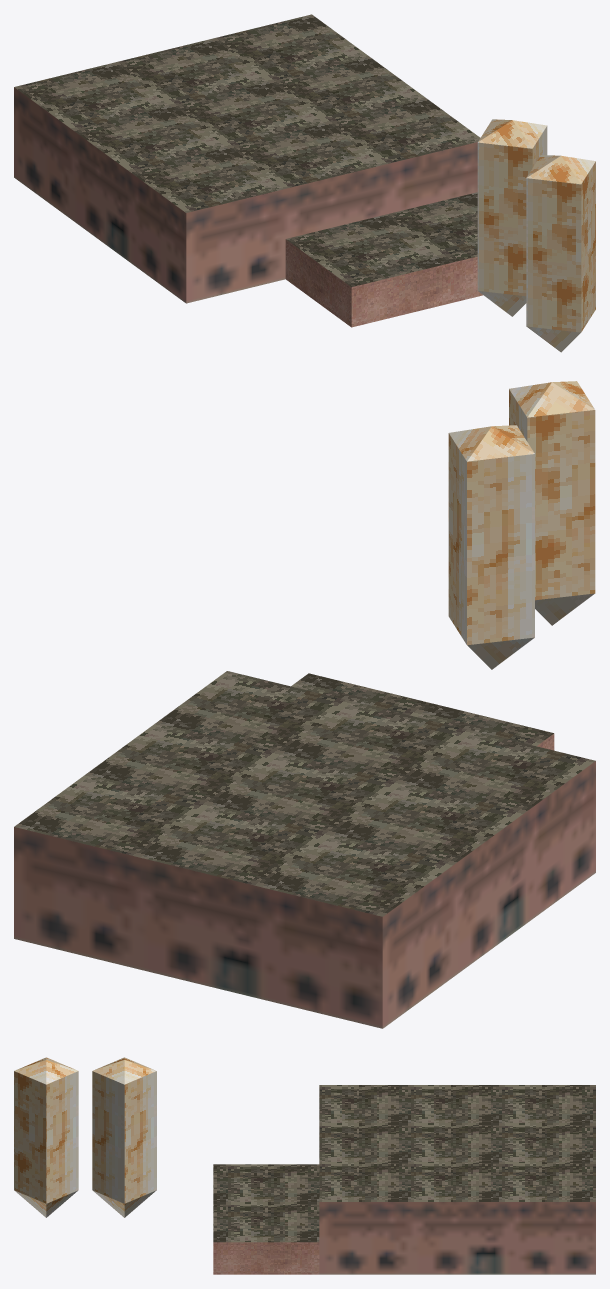
Rendered from lod_sfs081e.obj.
3 renders of one model, top to bottom at view 1: azimuth 30°, elevation 25°; view 2: azimuth 150°, elevation 25°; view 3: azimuth 270°, elevation 25°, orthographic. The views are drawn at different scales.
Parts seen in each view (by area): view 1: LOD_sfs081e; view 2: LOD_sfs081e; view 3: LOD_sfs081e.
Part boxes in pixels (x1,y1,x2,y2): LOD_sfs081e: (14, 14, 595, 352); LOD_sfs081e: (14, 381, 595, 1028); LOD_sfs081e: (14, 1057, 595, 1274).
Size of the model in its own units: 30.33 by 21.59 by 63.84.
4 materials, 4 textured.
